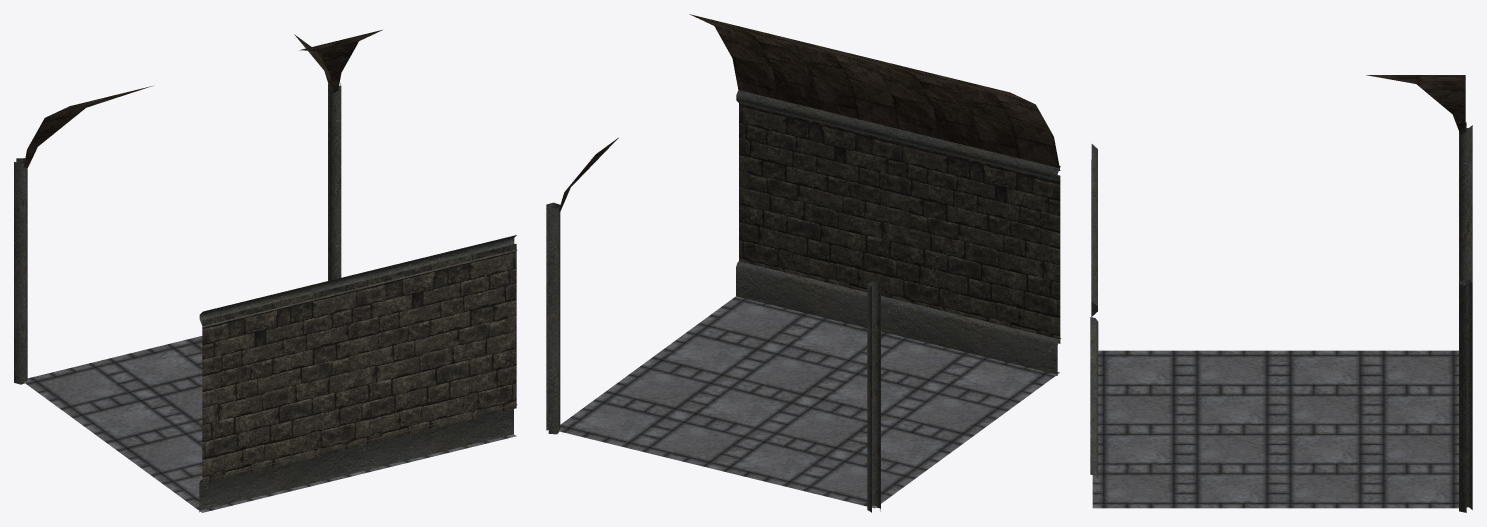
Rendered from TJunction.fbx.
3 views of the same model, side by side, from view 1: azimuth 30°, elevation 25°; view 2: azimuth 150°, elevation 25°; view 3: azimuth 270°, elevation 25° (orthographic). The views are drawn at different scales.
Parts seen in each view (by area): view 1: Plane_009, Plane_015, Mesh, Plane_011, Cylinder, Plane_008, Cylinder_001; view 2: Plane_015, Plane_009, Plane_008, Mesh, Plane_011, Cylinder_001, Cylinder; view 3: Plane_015, Cylinder_001, Cylinder, Plane_008, Mesh, Plane_011.
Boxes of the visible parts, x1,y1,x2,y2 form: Plane_009: (202,244,516,484); Plane_015: (24,336,516,512); Mesh: (199,404,517,512); Plane_011: (199,235,517,327); Cylinder: (14,158,27,384); Plane_008: (24,30,382,168); Cylinder_001: (328,83,341,280); Plane_015: (559,296,1059,508); Plane_009: (739,103,1060,343); Plane_008: (558,14,1060,211); Mesh: (736,261,1060,375); Plane_011: (736,90,1060,181); Cylinder_001: (546,202,560,434); Cylinder: (867,281,880,512); Plane_015: (1092,350,1458,508); Cylinder_001: (1459,280,1472,512); Cylinder: (1459,122,1472,283); Plane_008: (1366,75,1465,134); Mesh: (1090,317,1098,478); Plane_011: (1091,144,1097,316).
Bounding box in the file's own units: 4.16 × 4 × 4.1.
